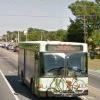buses: (16, 39, 91, 99)
